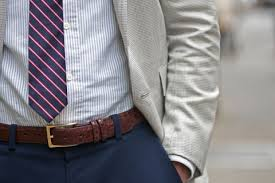F_belt: (1, 103, 154, 156)
F_tie: (26, 1, 66, 120)
